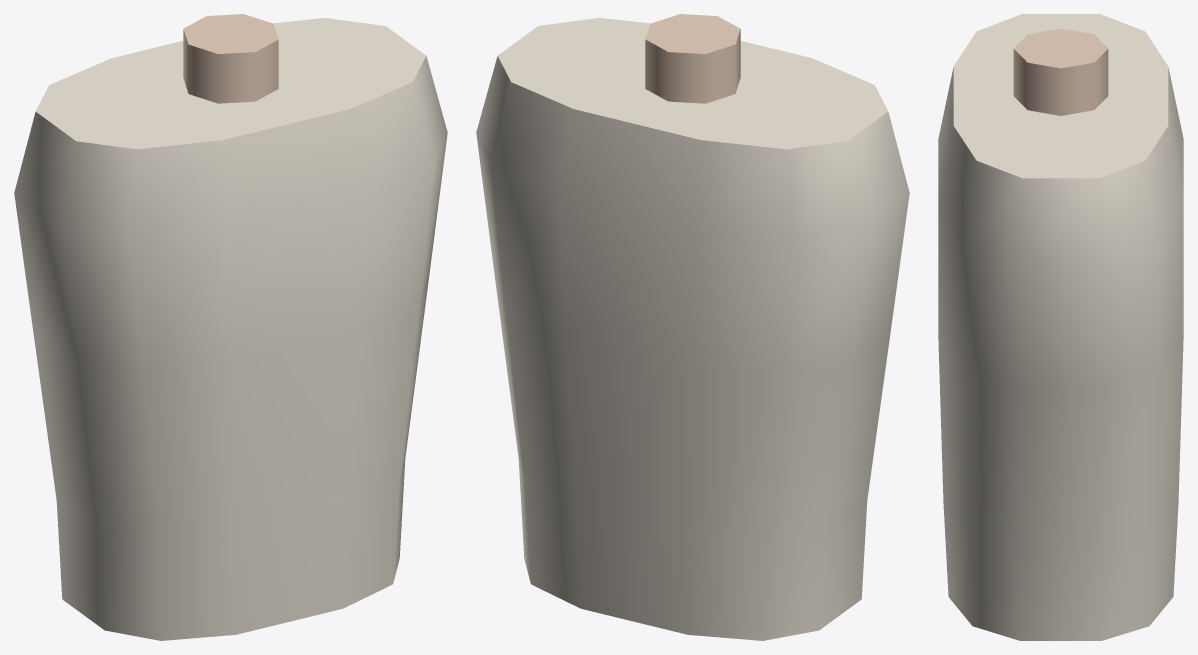
The model's file is torso.glb.
3 views of the same model, side by side, from view 1: azimuth 30°, elevation 25°; view 2: azimuth 150°, elevation 25°; view 3: azimuth 270°, elevation 25° (orthographic). The views are drawn at different scales.
Visible parts, largest first — view 1: torso; view 2: torso; view 3: torso.
Boxes of the visible parts, box(x1,y1,x2,y2) form: torso: box(14, 14, 447, 640); torso: box(476, 14, 909, 640); torso: box(938, 14, 1183, 640).
Size of the model in its own units: 0.4089 by 0.55 by 0.2337.
